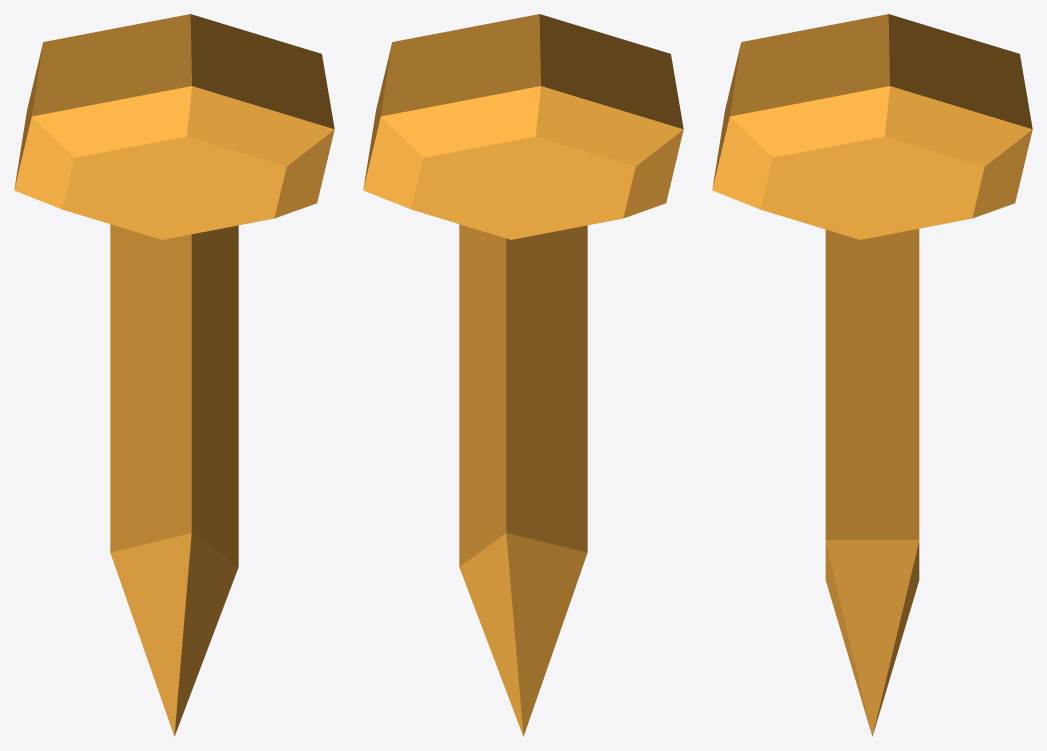
File: TentStake.glb
3 renders of one model, left to right at view 1: azimuth 30°, elevation 25°; view 2: azimuth 150°, elevation 25°; view 3: azimuth 270°, elevation 25°, orthographic.
Parts seen in each view (by area): view 1: TentStake; view 2: TentStake; view 3: TentStake.
Boxes of the visible parts, x1,y1,x2,y2 form: TentStake: [14, 14, 334, 736]; TentStake: [363, 14, 683, 736]; TentStake: [712, 14, 1032, 736].
Bounding box in the file's own units: 0.0896 × 0.185 × 0.082.
